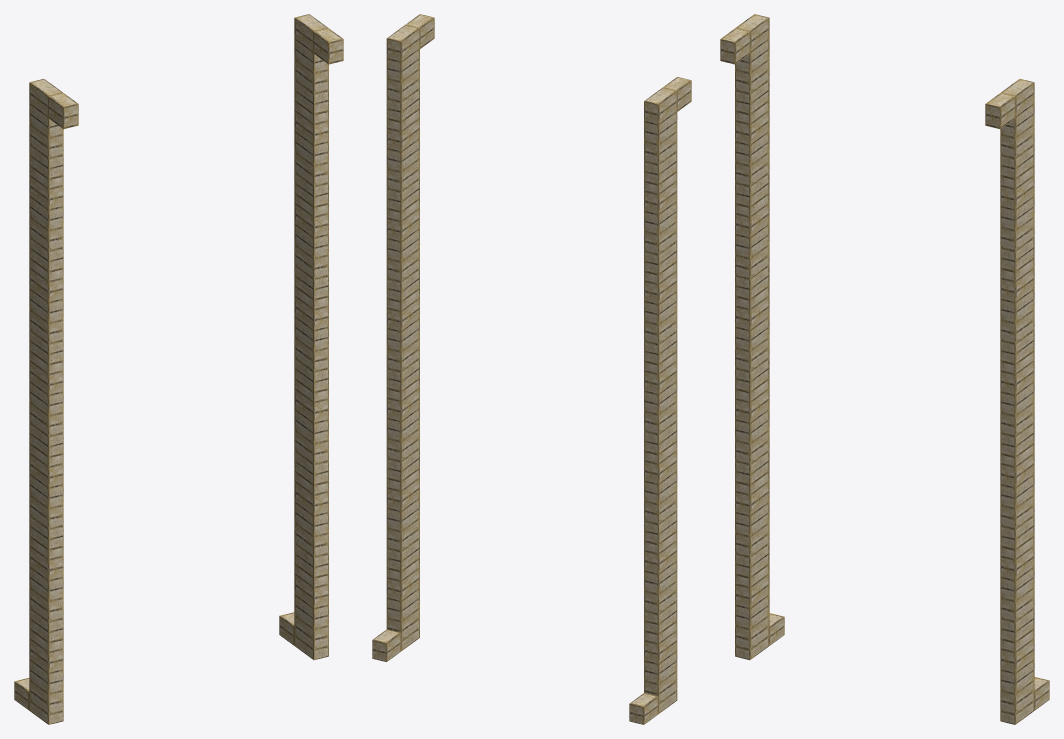
File: tutorial_structure_ladder_frame.dae
The picture shows the model from 3 angles, left to right: view 1: azimuth 30°, elevation 25°; view 2: azimuth 150°, elevation 25°; view 3: azimuth 330°, elevation 25°; orthographic projection. The views are drawn at different scales.
Parts seen in each view (by area): view 1: tutorial_structure_ladder_frame; view 2: tutorial_structure_ladder_frame; view 3: tutorial_structure_ladder_frame.
Boxes of the visible parts, <box> form: tutorial_structure_ladder_frame: <box>14,14,343,724</box>; tutorial_structure_ladder_frame: <box>372,14,691,724</box>; tutorial_structure_ladder_frame: <box>720,14,1049,724</box>.
Size of the model in its own units: 2.74 by 0.835 by 5.86.
Materials: 1 (1 with a texture image).
